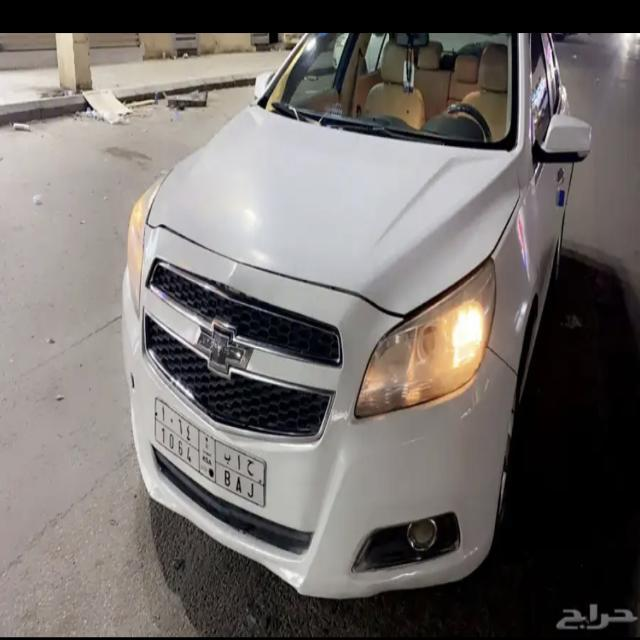license_plate: (156, 397, 268, 507)
